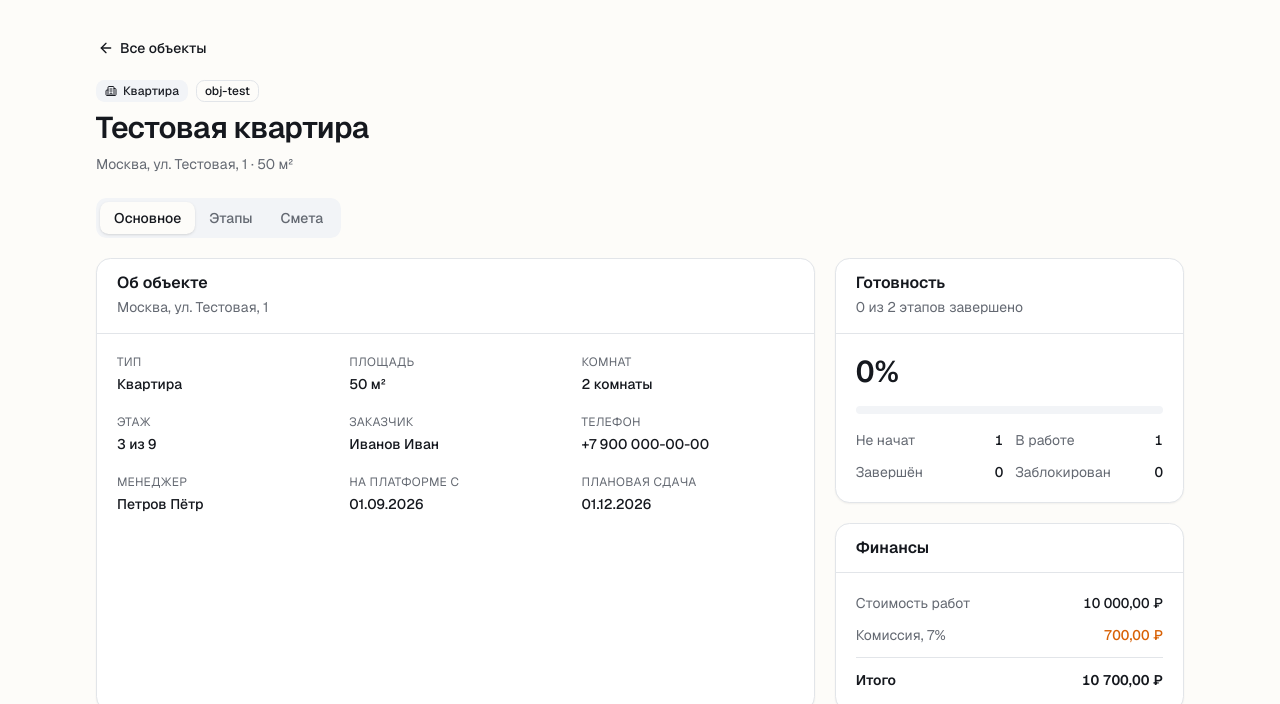
Test: ObjectPassportView · смена статуса этапа › сохраняет причину блокировки на карточке этапа
This screenshot has width=1280, height=704.
Click the tab "Этапы".
click(231, 218)  # box [195, 202, 266, 234]
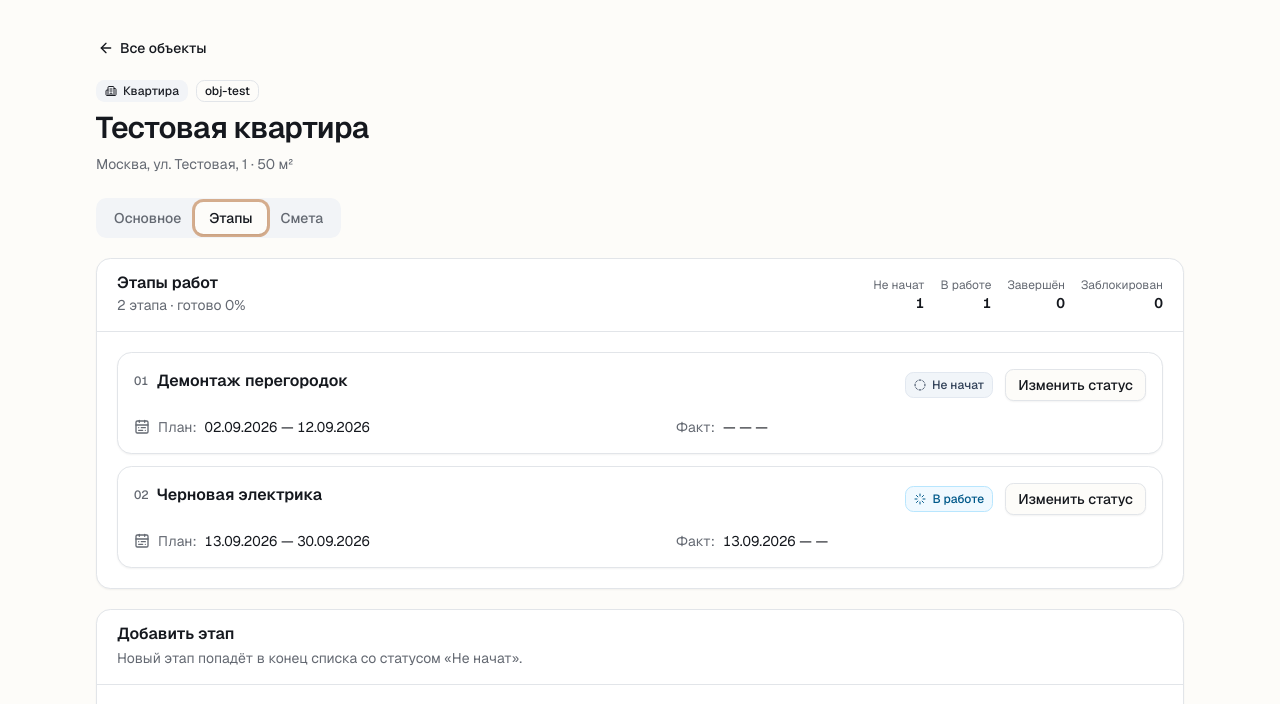
Click the button "Изменить статус" in the row of "Черновая электрика".
click(1076, 499)  # box [1005, 483, 1146, 515]
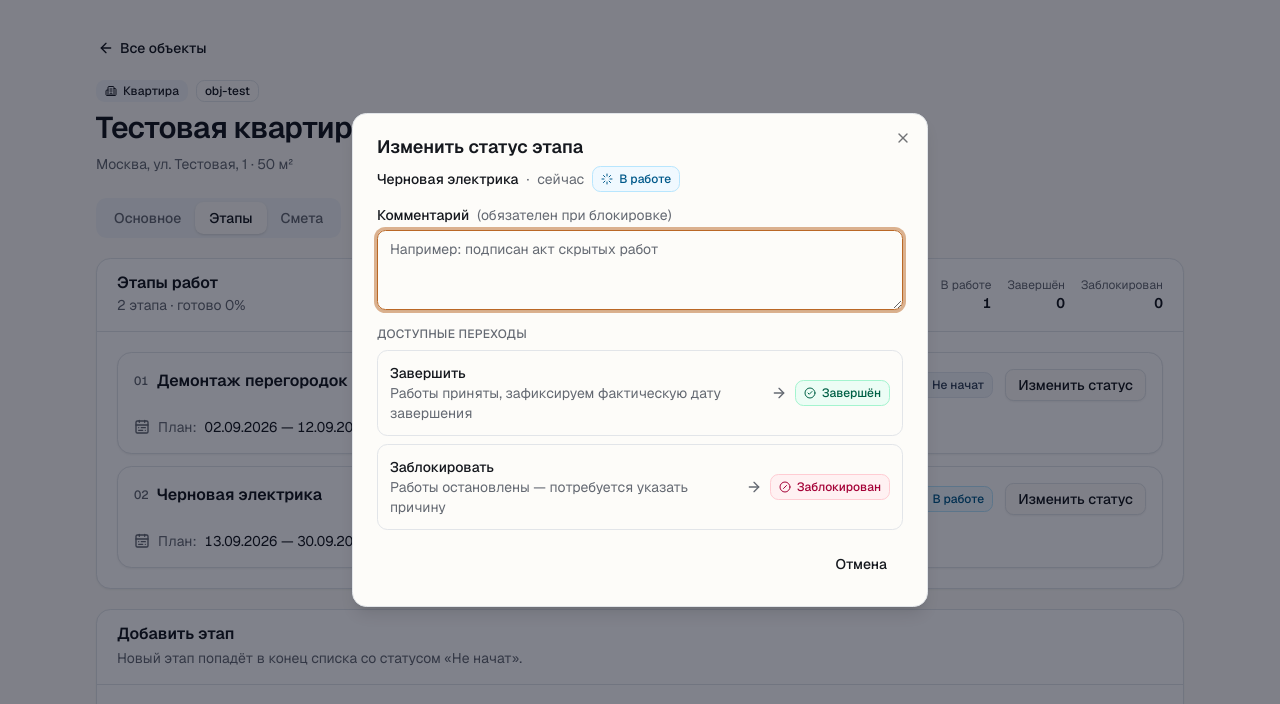
Type "Нет согласования УК" into the text box labelled "Комментарий (обязателен при блокировке)".
click(640, 270); type("Нет согласования УК")  # box [377, 230, 903, 310]
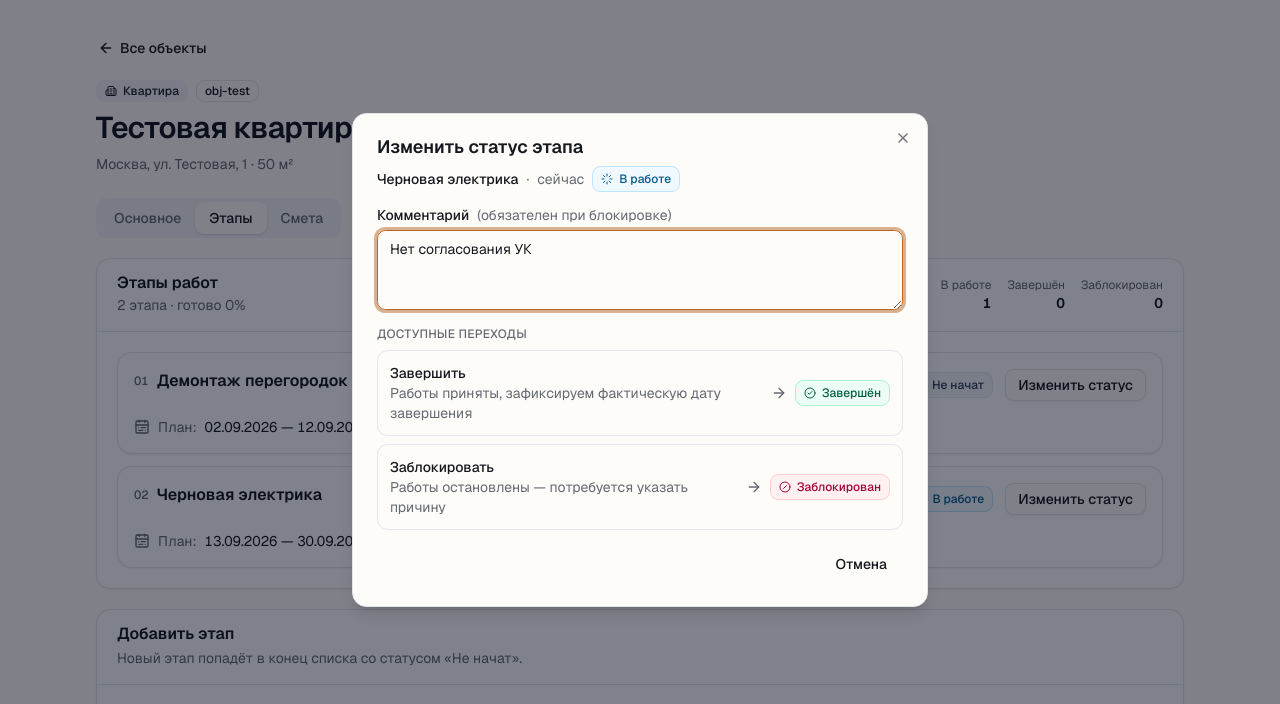
Click the button with test id "transition-blocked".
click(640, 487)  # box [377, 444, 903, 530]
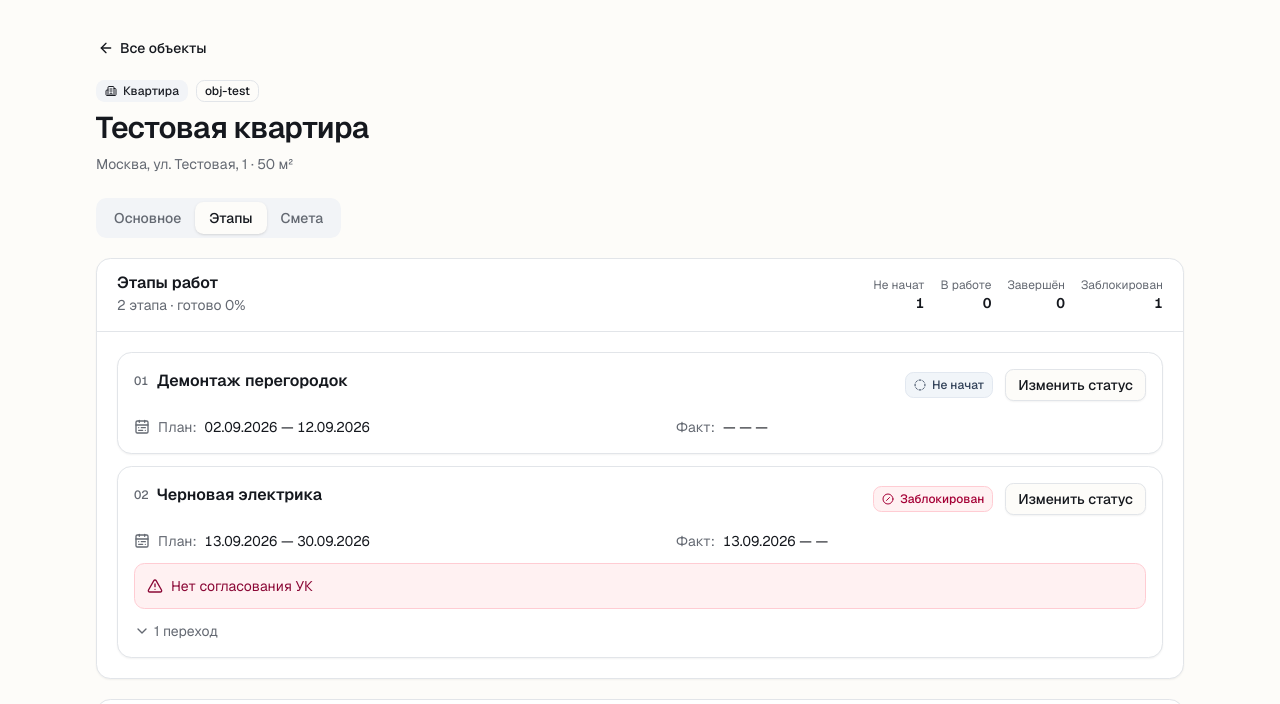
Now the text "Нет согласования УК" is shown, box [171, 576, 313, 596]
